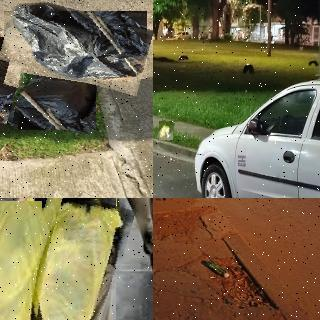Garbage: (17, 198, 125, 320), (1, 3, 150, 87), (16, 59, 98, 133), (0, 198, 48, 320), (0, 31, 34, 122), (159, 120, 175, 141)
